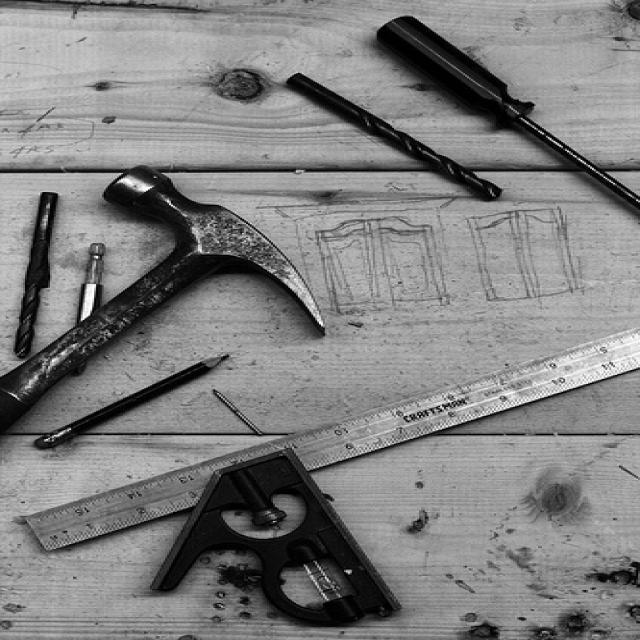hammer: (0, 161, 333, 417)
screwdriver: (370, 9, 640, 216)
